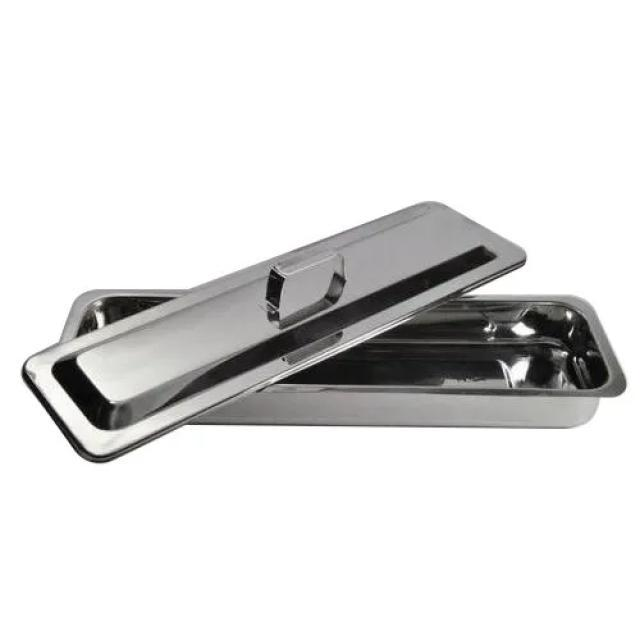Catheter Tray: (39, 238, 633, 474)
